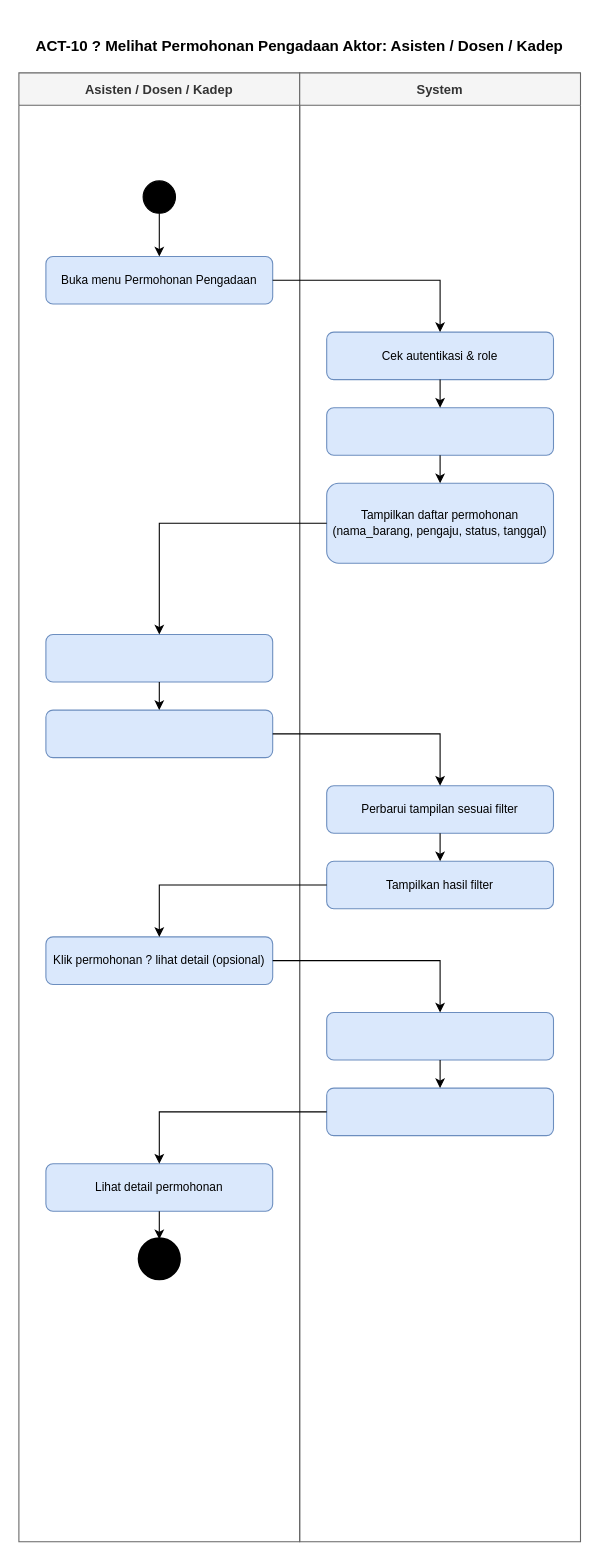
This 599x1561 diagram has some shape labels left out. Each missing label, with the centre of its shape:
Ambil data detail permohonan: point (440, 1035)
Ambil data permohonan pengadaan: point (440, 431)
Lihat daftar permohonan: point (159, 657)
Pilih filter (opsional): point (159, 733)
Tampilkan halaman detail: point (440, 1111)
